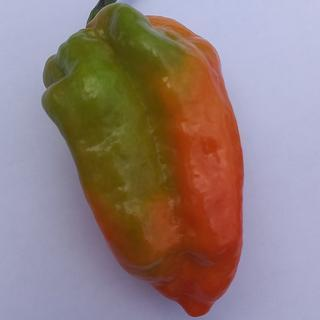Grade-A: (36, 1, 244, 316)
